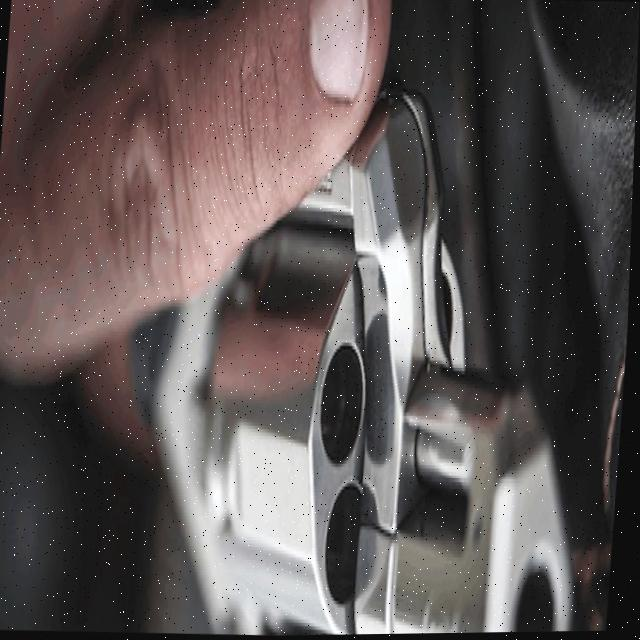pistol: (90, 0, 618, 639)
